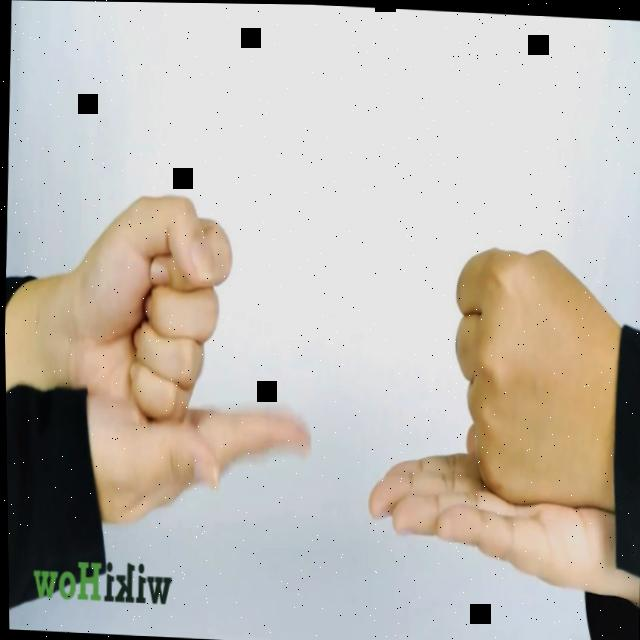Rock: (447, 233, 622, 512), (52, 223, 230, 467)
